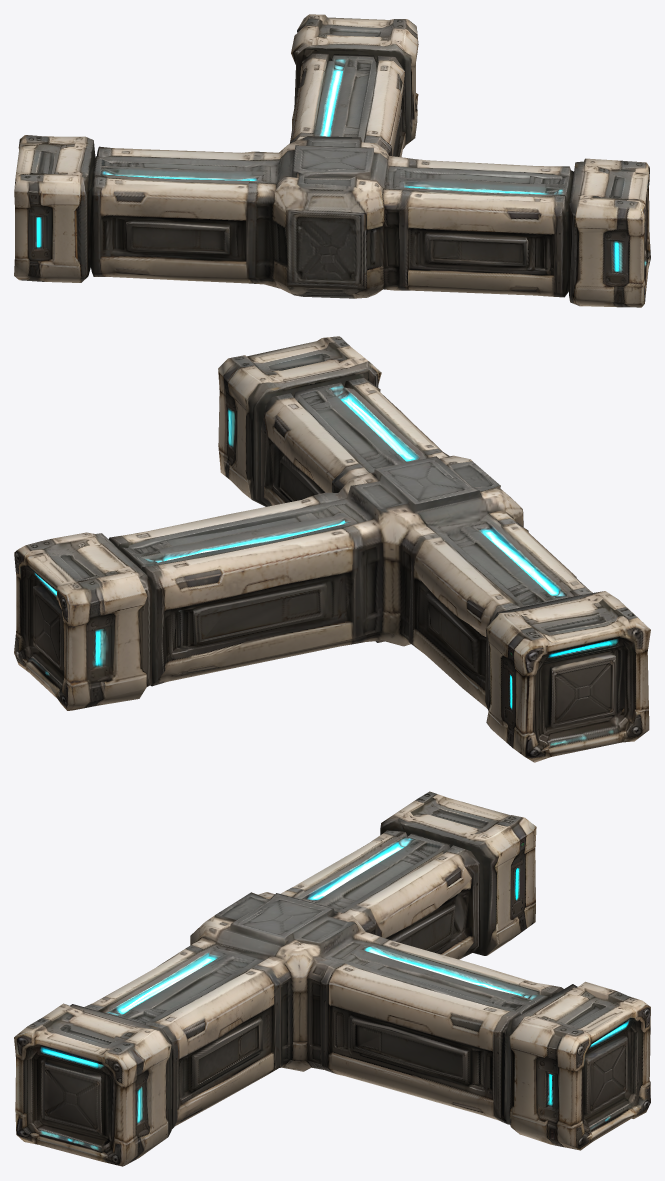
Rendered from energy-conduit-junction.glb.
3 renders of one model, top to bottom at view 1: azimuth 30°, elevation 25°; view 2: azimuth 150°, elevation 25°; view 3: azimuth 270°, elevation 25°, orthographic. The views are drawn at different scales.
Parts seen in each view (by area): view 1: energy-conduit-junction; view 2: energy-conduit-junction; view 3: energy-conduit-junction.
Part boxes in pixels (box(x1,y1,x2,y2)): energy-conduit-junction: box(14, 14, 650, 307); energy-conduit-junction: box(14, 336, 650, 762); energy-conduit-junction: box(14, 791, 650, 1166).
Size of the model in its own units: 3.99 by 0.9 by 3.97.
1 material, 1 textured.
